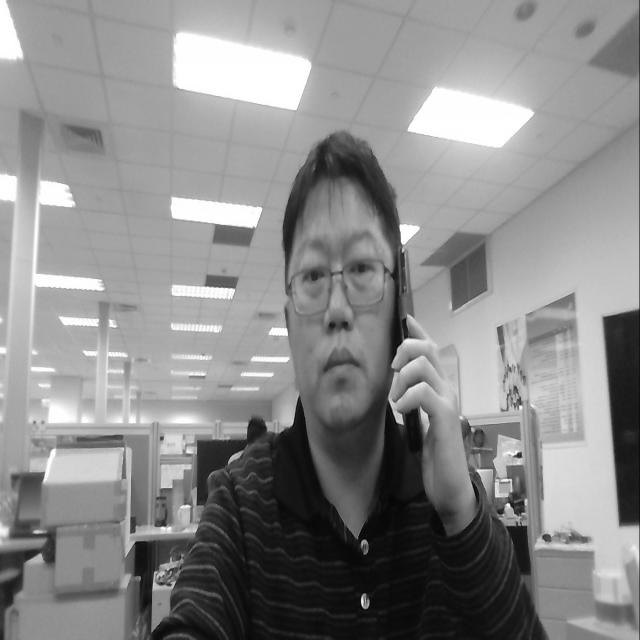phone: (378, 227, 462, 473)
